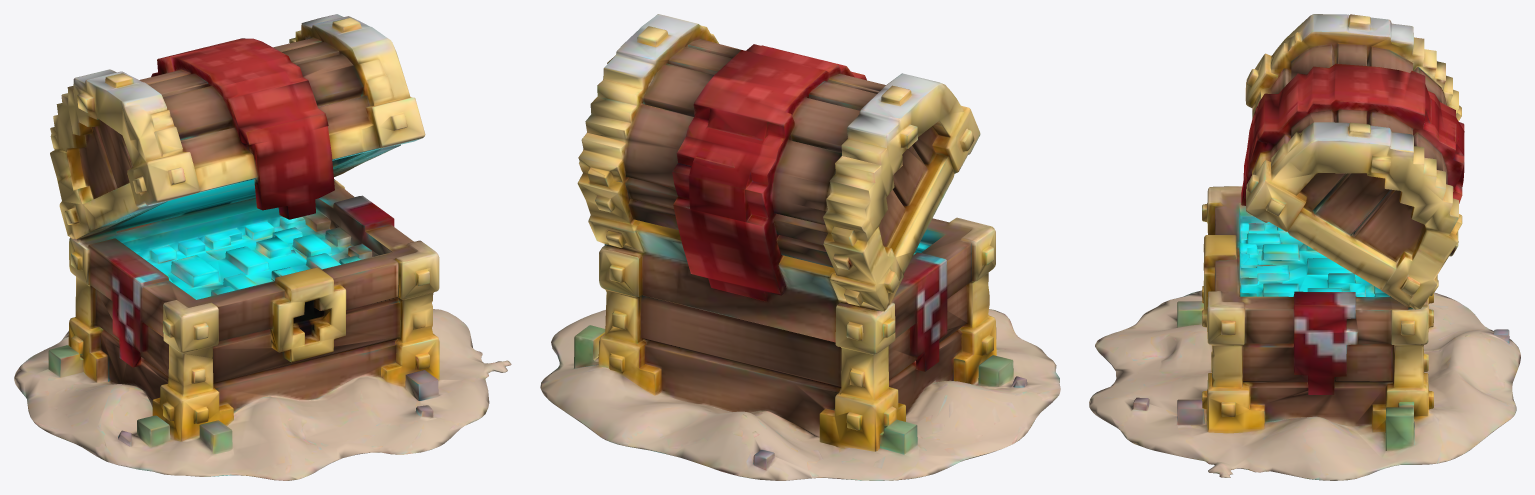
File: chest.glb
The picture shows the model from 3 angles, left to right: view 1: azimuth 30°, elevation 25°; view 2: azimuth 150°, elevation 25°; view 3: azimuth 270°, elevation 25°; orthographic projection. The views are drawn at different scales.
Parts seen in each view (by area): view 1: node_0; view 2: node_0; view 3: node_0.
Boxes of the visible parts, left/top/right/bottom form: node_0: left=14, top=14, right=511, bottom=480; node_0: left=540, top=14, right=1060, bottom=480; node_0: left=1089, top=14, right=1520, bottom=480.
Size of the model in its own units: 0.9623 by 0.6814 by 0.8672.
1 material, 1 textured.
